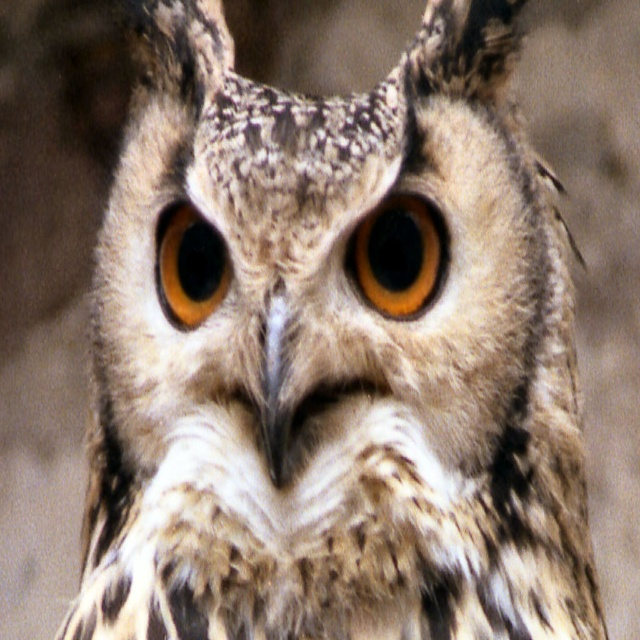Owl: (51, 0, 608, 639)
